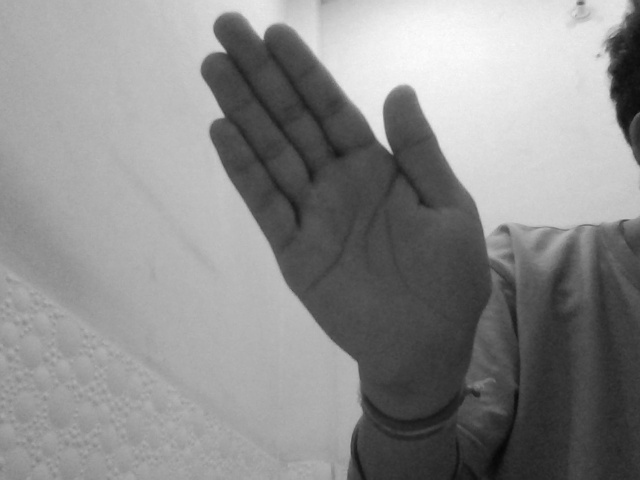Hello: (195, 5, 495, 386)
